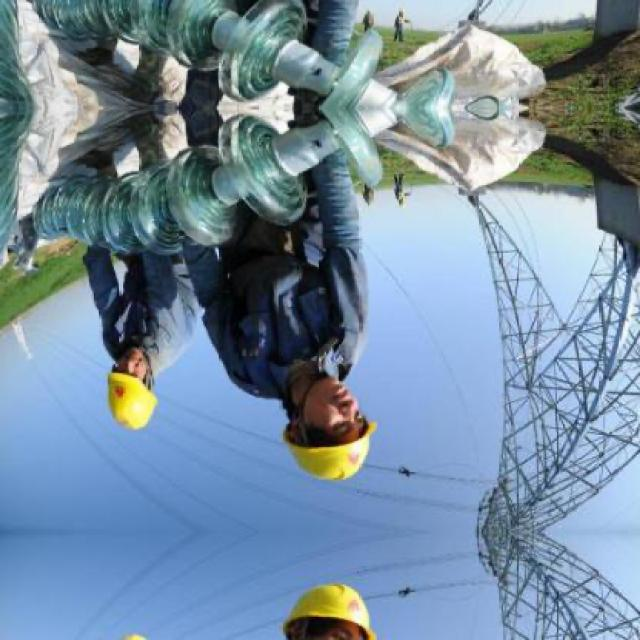con casco: (266, 382, 386, 498), (92, 335, 164, 443)
